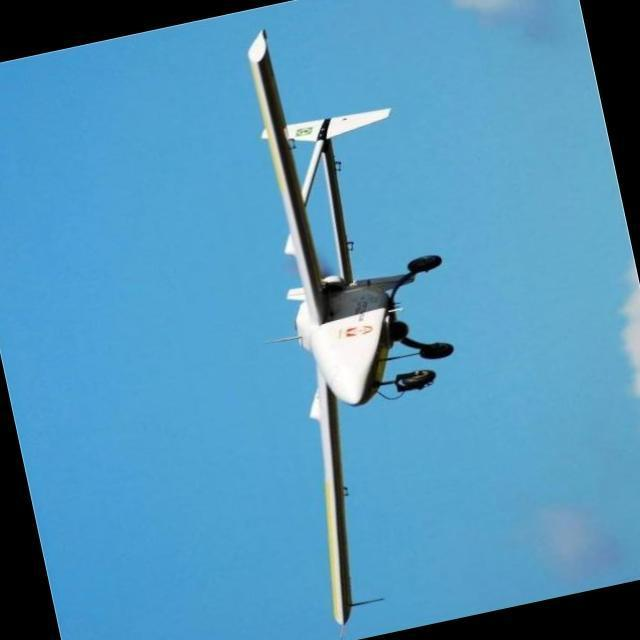iha: (193, 24, 495, 581)
